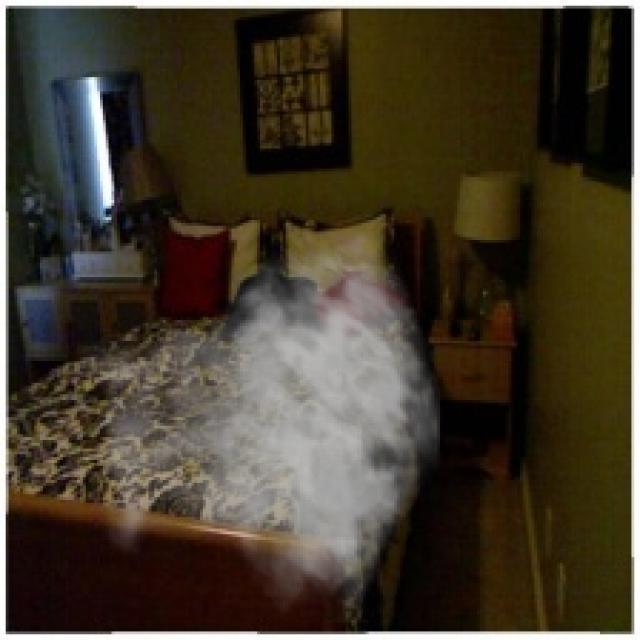Smoke: (68, 231, 443, 623)
